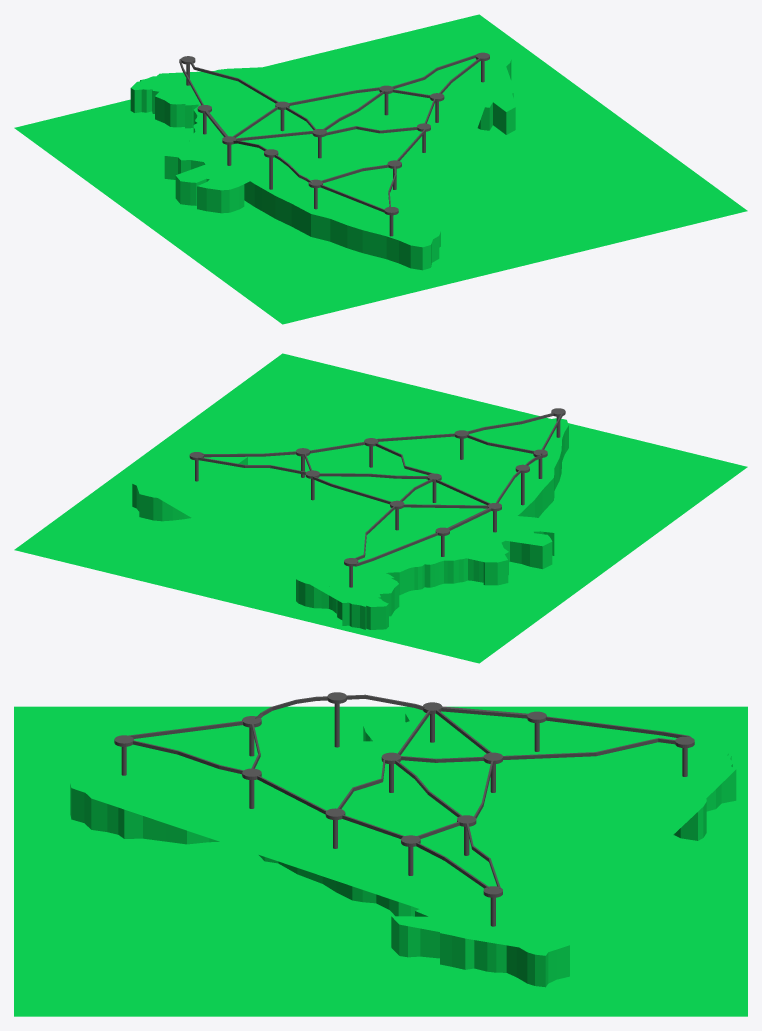
Rendered from Map_AI_VR.fbx.
3 renders of one model, top to bottom at view 1: azimuth 30°, elevation 25°; view 2: azimuth 150°, elevation 25°; view 3: azimuth 270°, elevation 25°, orthographic. The views are drawn at different scales.
Visible parts, largest first — view 1: Plane, Cylinder.002, Cylinder.012, Cylinder.001, Cylinder.009, Cylinder.007, Cylinder.011; view 2: Plane, Cylinder.012, Cylinder.001, Cylinder.002, Cylinder.010, Cylinder.011, Cylinder.007, Cylinder.009, Cylinder.004, Cylinder.006; view 3: Plane, Cylinder.012, Cylinder.002, Cylinder.001, Cylinder.010, Cylinder.004, Cylinder.009, Cylinder.011, Cylinder.007, Cylinder.006.
Boxes of the visible parts, x1,y1,x2,y2 form: Plane: (14, 14, 747, 324); Cylinder.002: (191, 61, 379, 131); Cylinder.012: (233, 91, 383, 189); Cylinder.001: (205, 106, 312, 165); Cylinder.009: (308, 164, 388, 212); Cylinder.007: (379, 54, 477, 115); Cylinder.011: (325, 99, 435, 152); Plane: (14, 353, 747, 663); Cylinder.012: (320, 453, 543, 505); Cylinder.001: (404, 479, 501, 532); Cylinder.002: (312, 476, 432, 559); Cylinder.010: (377, 413, 553, 459); Cylinder.011: (310, 438, 434, 474); Cylinder.007: (197, 454, 319, 500); Cylinder.009: (467, 413, 562, 478); Cylinder.004: (352, 527, 449, 566); Cylinder.006: (201, 448, 309, 477); Plane: (14, 706, 747, 1016); Cylinder.012: (255, 692, 461, 816); Cylinder.002: (401, 738, 676, 818); Cylinder.001: (398, 702, 527, 754); Cylinder.010: (132, 740, 326, 814); Cylinder.004: (527, 711, 691, 751); Cylinder.009: (129, 716, 261, 768); Cylinder.011: (325, 758, 404, 848); Cylinder.007: (417, 815, 500, 888); Cylinder.006: (401, 835, 489, 888).
Size of the model in its own units: 2000 by 245 by 2000.
